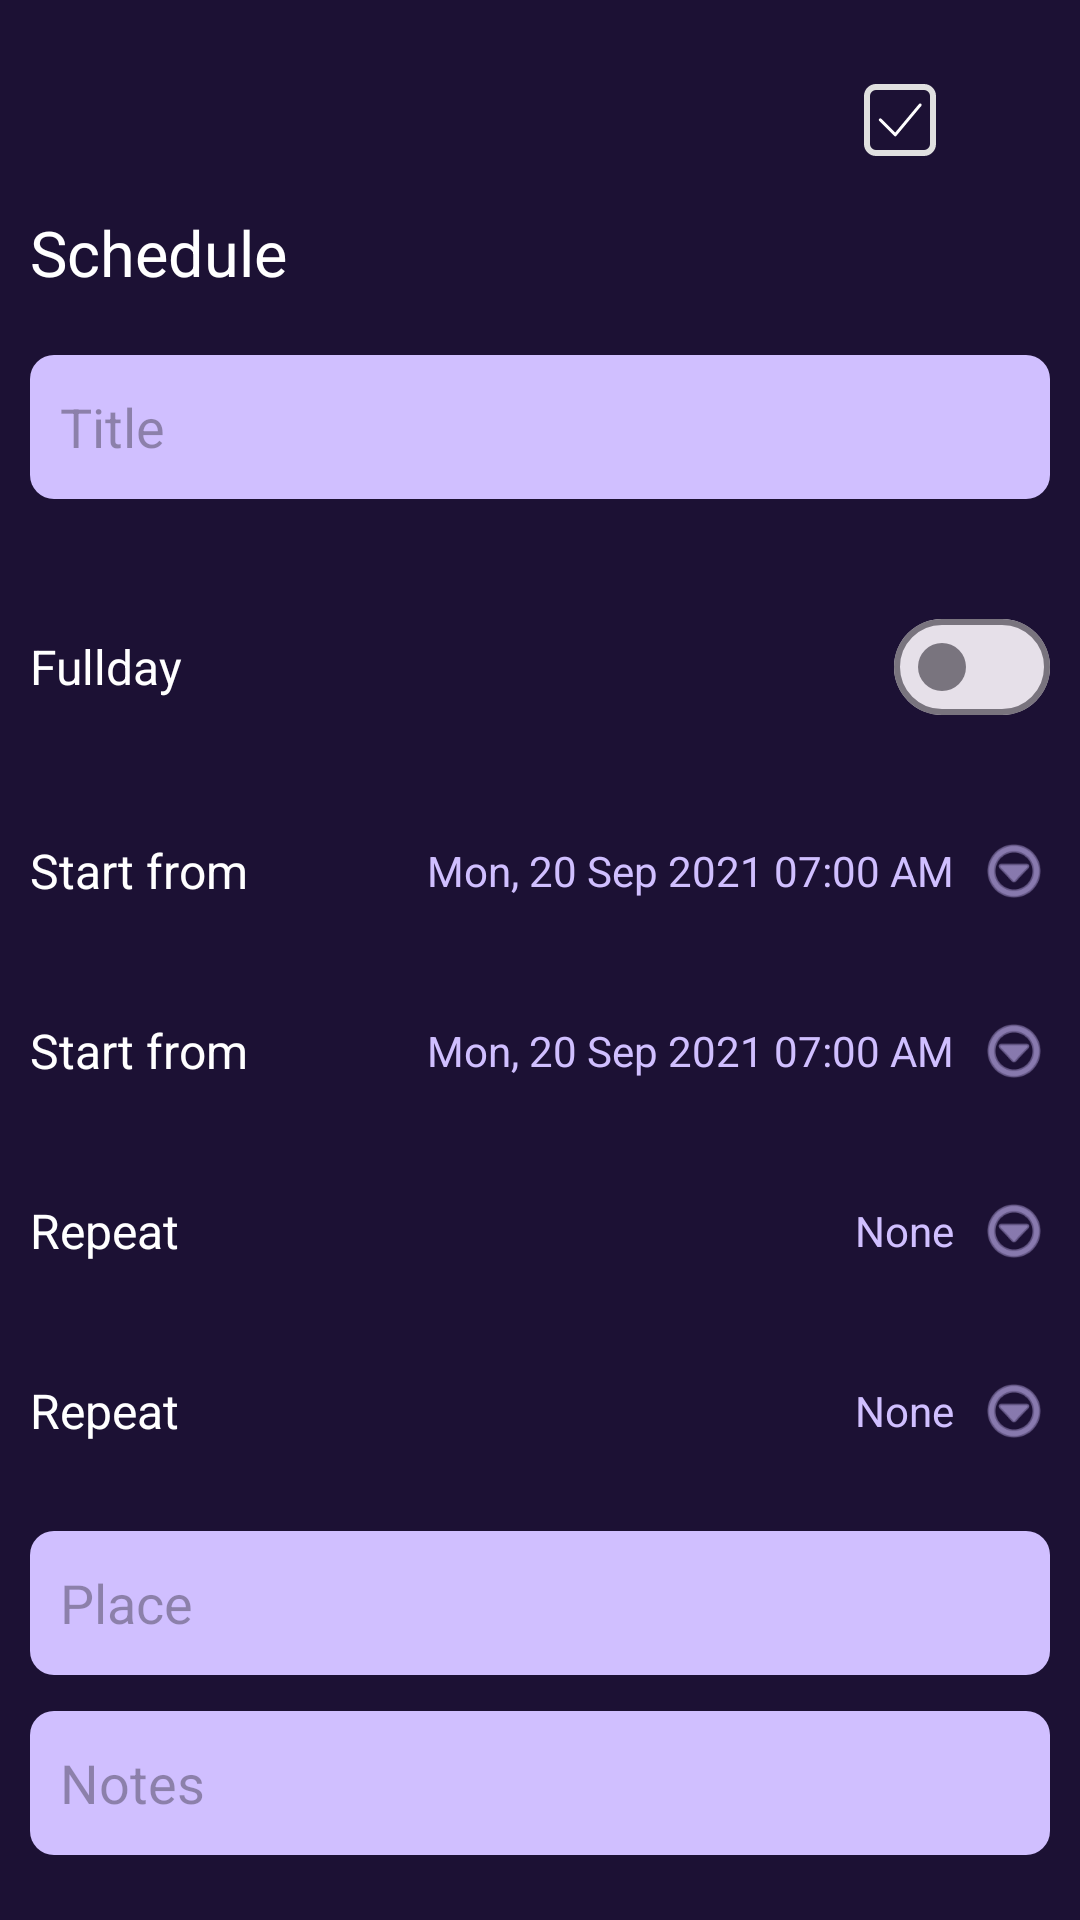

Named icons in this screenshot (1080px x 1920px) and their centers, [x,y]:
check box: [900,120]
more: [1014,871], [1014,1051], [1014,1231], [1014,1411]
